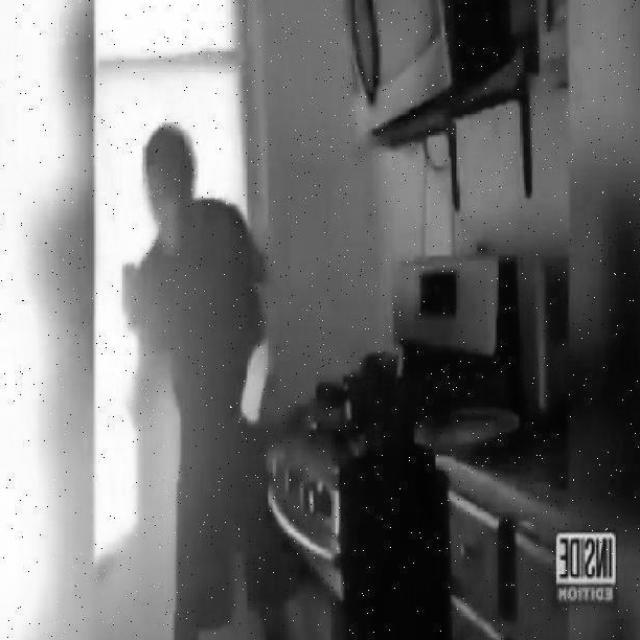smoke: (94, 294, 144, 556)
